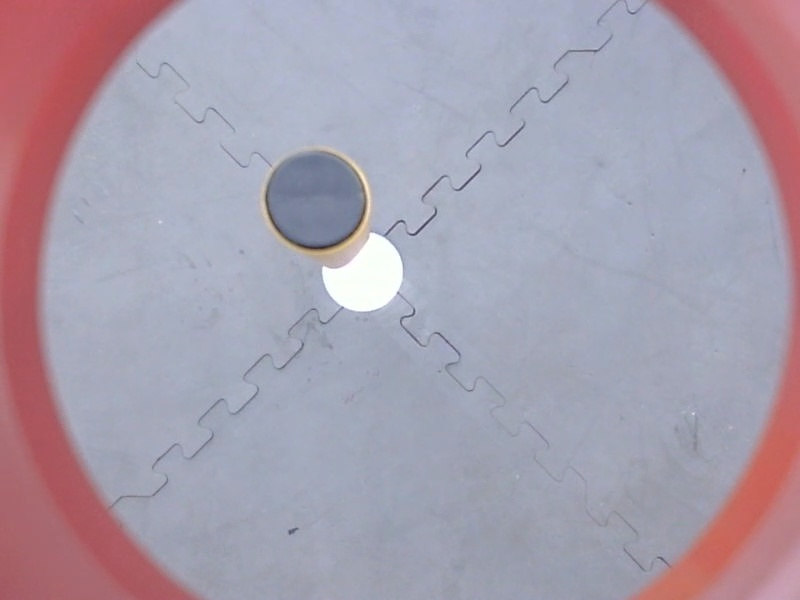tip: (257, 141, 377, 261)
